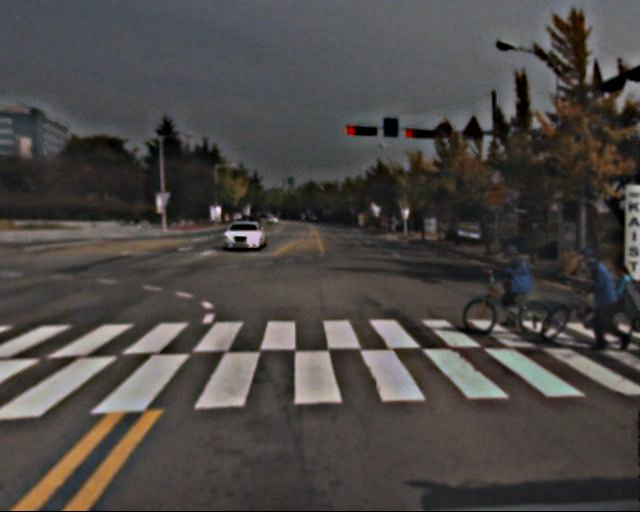person: (574, 250, 617, 354), (495, 243, 530, 329), (609, 261, 640, 337)
